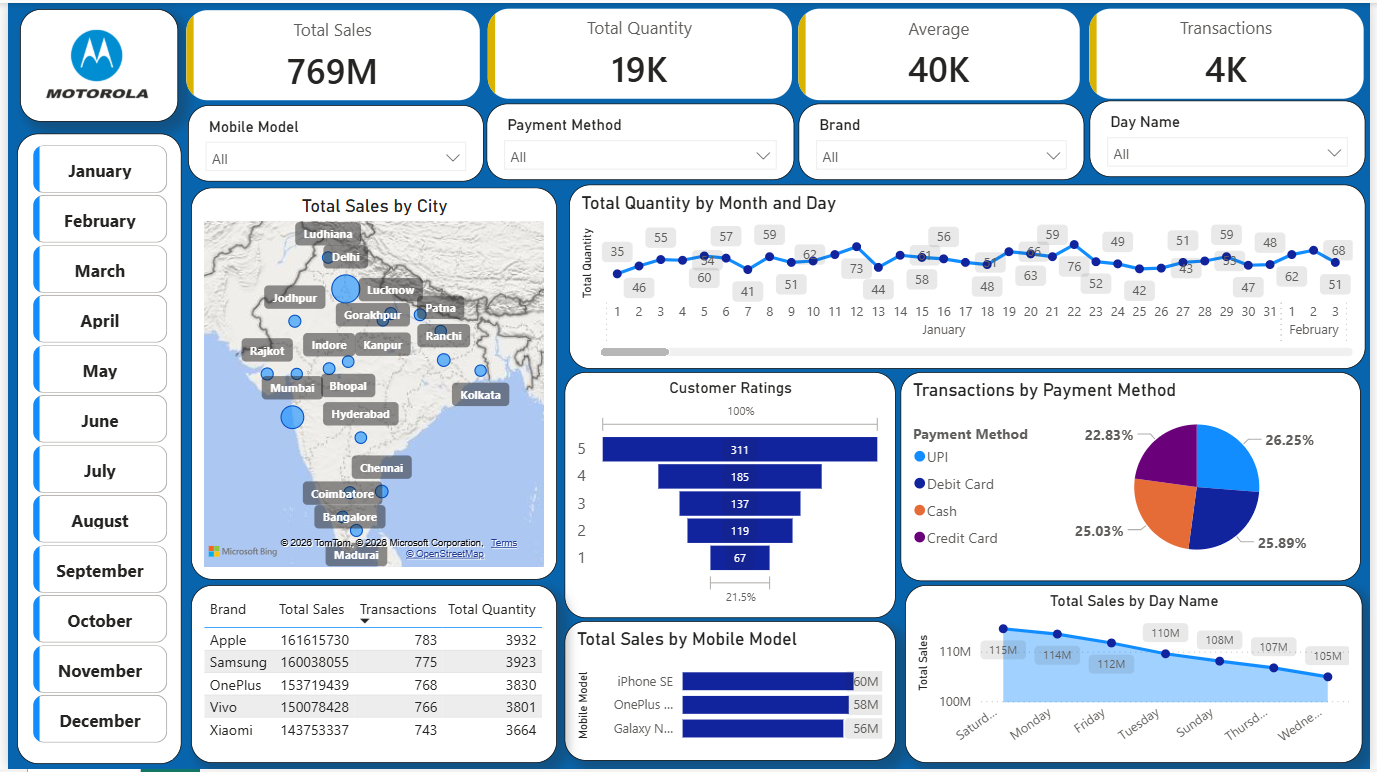

This screenshot's page, from the dashboard's own definition file:
{"tool":"powerbi","page":{"name":"Page 1","canvas":[1280,720],"ordinal":0},"visuals":[{"type":"shape","box":[11.8,5.9,148.5,105.9],"z":0},{"type":"shape","box":[8.8,122.1,154.4,592.6],"z":1000},{"type":"image","box":[26.6,6.3,114.1,103.2],"z":2000},{"type":"cardVisual","fields":{"Data":["Sheet1.Total Sales"]},"box":[162.6,1.6,286,95.3],"z":3000},{"type":"cardVisual","fields":{"Data":["Sheet1.Total Quantity"]},"box":[445.5,0,297,95.3],"z":4000},{"type":"cardVisual","fields":{"Data":["Sheet1.Average"]},"box":[737.7,0,275.1,96.9],"z":5000},{"type":"cardVisual","fields":{"Data":["Sheet1.Transactions"]},"box":[1011.3,0,268.8,95.3],"z":6000},{"type":"map","fields":{"Category":["Sheet1.City"],"Size":["Sheet1.Total Sales"]},"box":[171.9,173.5,343.9,368.9],"z":7000},{"type":"lineChart","fields":{"Y":["Sheet1.Total Quantity"],"Category":["Sheet1.Date.Variation.Date Hierarchy.Month","Sheet1.Date.Variation.Date Hierarchy.Day"]},"box":[526.7,170.4,748.7,173.5],"z":8000},{"type":"clusteredBarChart","fields":{"Category":["Sheet1.Mobile Model"],"Y":["Sheet1.Total Sales"]},"box":[523.6,581.4,311,131.3],"z":9000},{"type":"pieChart","fields":{"Category":["Sheet1.Payment Method"],"Y":["Sheet1.Transactions"]},"box":[839.3,347,432.9,196.9],"z":10000},{"type":"funnel","title":"Customer Ratings","fields":{"Category":["Sheet1.Customer Ratings"],"Y":["CountNonNull(Sheet1.Customer Ratings)"]},"box":[523.6,347,311,231.3],"z":11000},{"type":"areaChart","fields":{"Category":["Sheet1.Day Name"],"Y":["Sheet1.Total Sales"]},"box":[842.5,547,429.8,167.2],"z":12000},{"type":"tableEx","fields":{"Values":["Sheet1.Brand","Sheet1.Total Sales","Sheet1.Transactions","Sheet1.Total Quantity"]},"box":[171.9,547,343.9,167.2],"z":13000},{"type":"slicer","fields":{"Values":["Sheet1.Mobile Model"]},"box":[168.8,95.3,278.2,71.9],"z":14000},{"type":"slicer","fields":{"Values":["Sheet1.Payment Method"]},"box":[450.1,93.8,289.2,71.9],"z":15000},{"type":"slicer","fields":{"Values":["Sheet1.Brand"]},"box":[742.4,93.8,268.8,71.9],"z":16000},{"type":"slicer","fields":{"Values":["Sheet1.Day Name"]},"box":[1015.9,92.2,259.5,71.9],"z":17000},{"type":"advancedSlicerVisual","fields":{"Values":["Sheet1.Date.Variation.Date Hierarchy.Month"]},"box":[17.6,127.9,136.8,582.4],"z":18000}]}

Visuals, with their boxes in screenshot pixels (x1, y1, x2, y2), scaled from the page's 1280x720 canvas onto the 1377x772 screenshot:
shape: {"left": 13, "top": 6, "right": 172, "bottom": 120}
shape: {"left": 9, "top": 131, "right": 176, "bottom": 766}
image: {"left": 29, "top": 7, "right": 151, "bottom": 117}
cardVisual - Sheet1.Total Sales: {"left": 175, "top": 2, "right": 483, "bottom": 104}
cardVisual - Sheet1.Total Quantity: {"left": 479, "top": 0, "right": 799, "bottom": 102}
cardVisual - Sheet1.Average: {"left": 794, "top": 0, "right": 1090, "bottom": 104}
cardVisual - Sheet1.Transactions: {"left": 1088, "top": 0, "right": 1376, "bottom": 102}
map - Sheet1.City x Sheet1.Total Sales: {"left": 185, "top": 186, "right": 555, "bottom": 582}
lineChart - Sheet1.Total Quantity x Sheet1.Date.Variation.Date Hierarchy.Month: {"left": 567, "top": 183, "right": 1372, "bottom": 369}
clusteredBarChart - Sheet1.Mobile Model x Sheet1.Total Sales: {"left": 563, "top": 623, "right": 898, "bottom": 764}
pieChart - Sheet1.Payment Method x Sheet1.Transactions: {"left": 903, "top": 372, "right": 1369, "bottom": 583}
"Customer Ratings" funnel: {"left": 563, "top": 372, "right": 898, "bottom": 620}
areaChart - Sheet1.Day Name x Sheet1.Total Sales: {"left": 906, "top": 587, "right": 1369, "bottom": 766}
tableEx - Sheet1.Brand x Sheet1.Total Sales: {"left": 185, "top": 587, "right": 555, "bottom": 766}
slicer - Sheet1.Mobile Model: {"left": 182, "top": 102, "right": 481, "bottom": 179}
slicer - Sheet1.Payment Method: {"left": 484, "top": 101, "right": 795, "bottom": 178}
slicer - Sheet1.Brand: {"left": 799, "top": 101, "right": 1088, "bottom": 178}
slicer - Sheet1.Day Name: {"left": 1093, "top": 99, "right": 1372, "bottom": 176}
advancedSlicerVisual - Sheet1.Date.Variation.Date Hierarchy.Month: {"left": 19, "top": 137, "right": 166, "bottom": 762}
